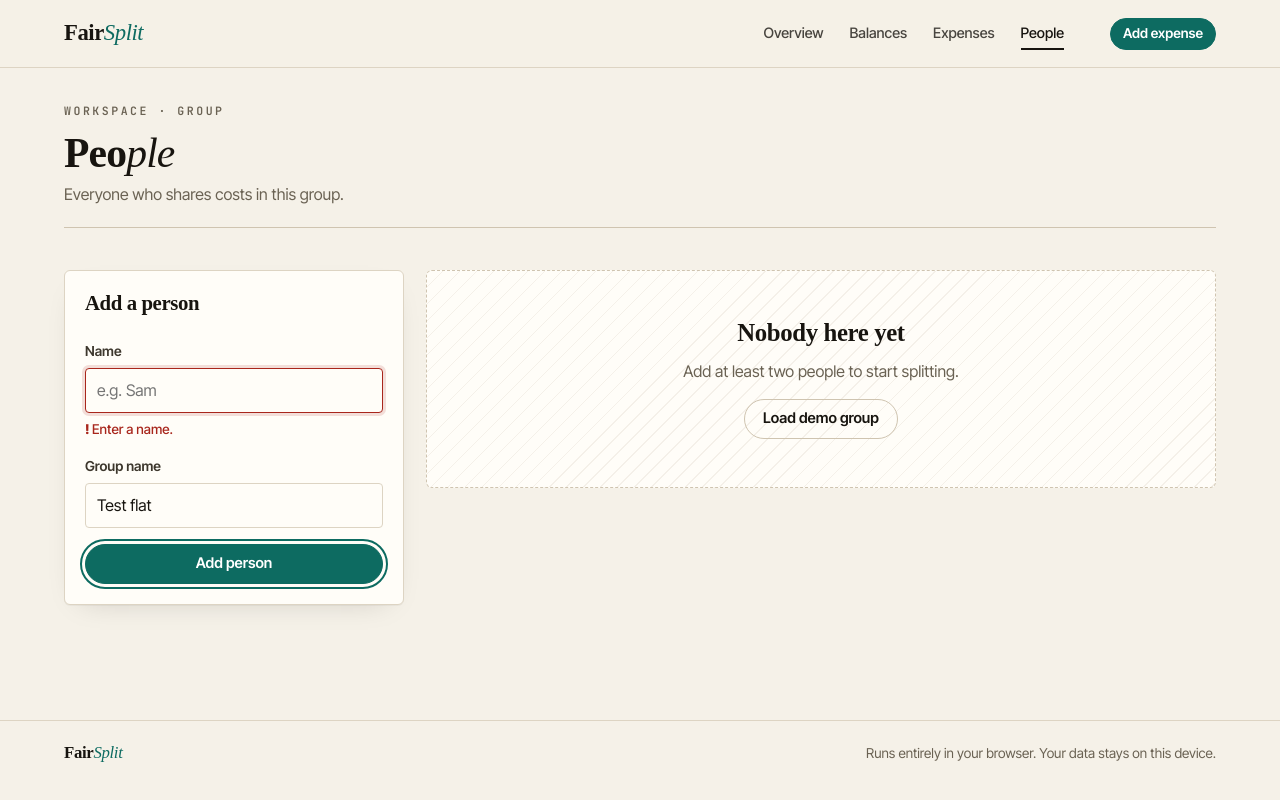
Test: FairSplit workflow › adds people, records an expense with validation, and settles up
Earlier steps of the test are not shown.
Later steps or results of the test are not shown.
Expected: the text "Enter a name." is shown, [92,421,173,437]
In the field labelled "Name": {"x": 234, "y": 391} [85,368,383,413], type "Ana"
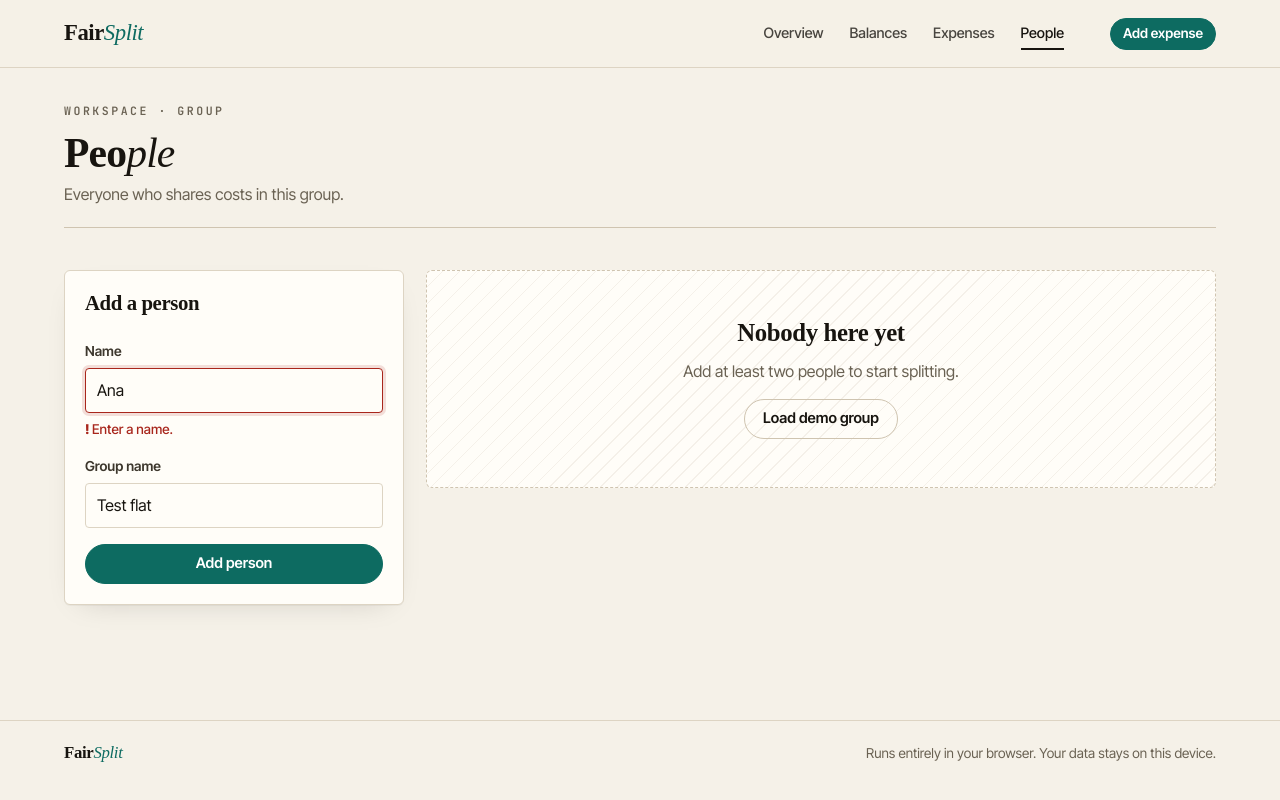
Click the button "Add person": {"x": 234, "y": 564} [85,544,383,584]
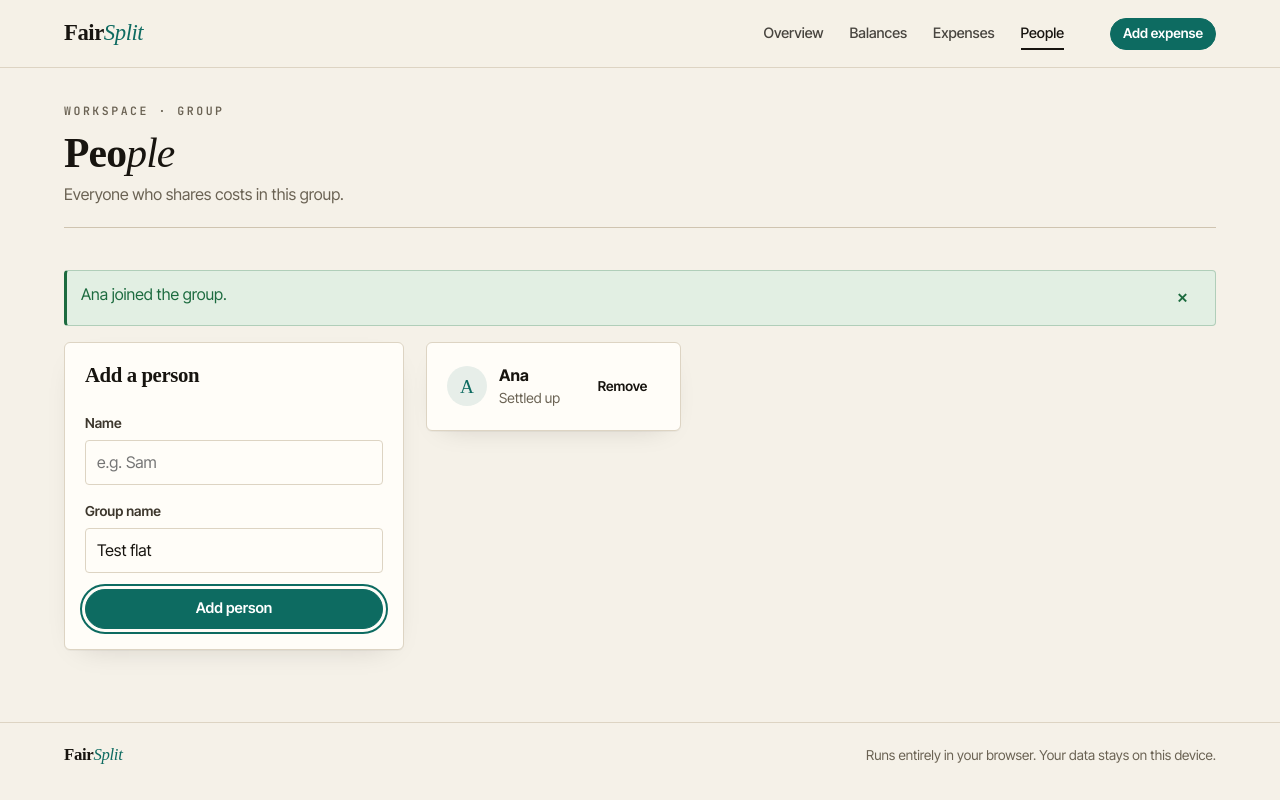
In the field labelled "Name": {"x": 234, "y": 463} [85,440,383,485], type "Ben"
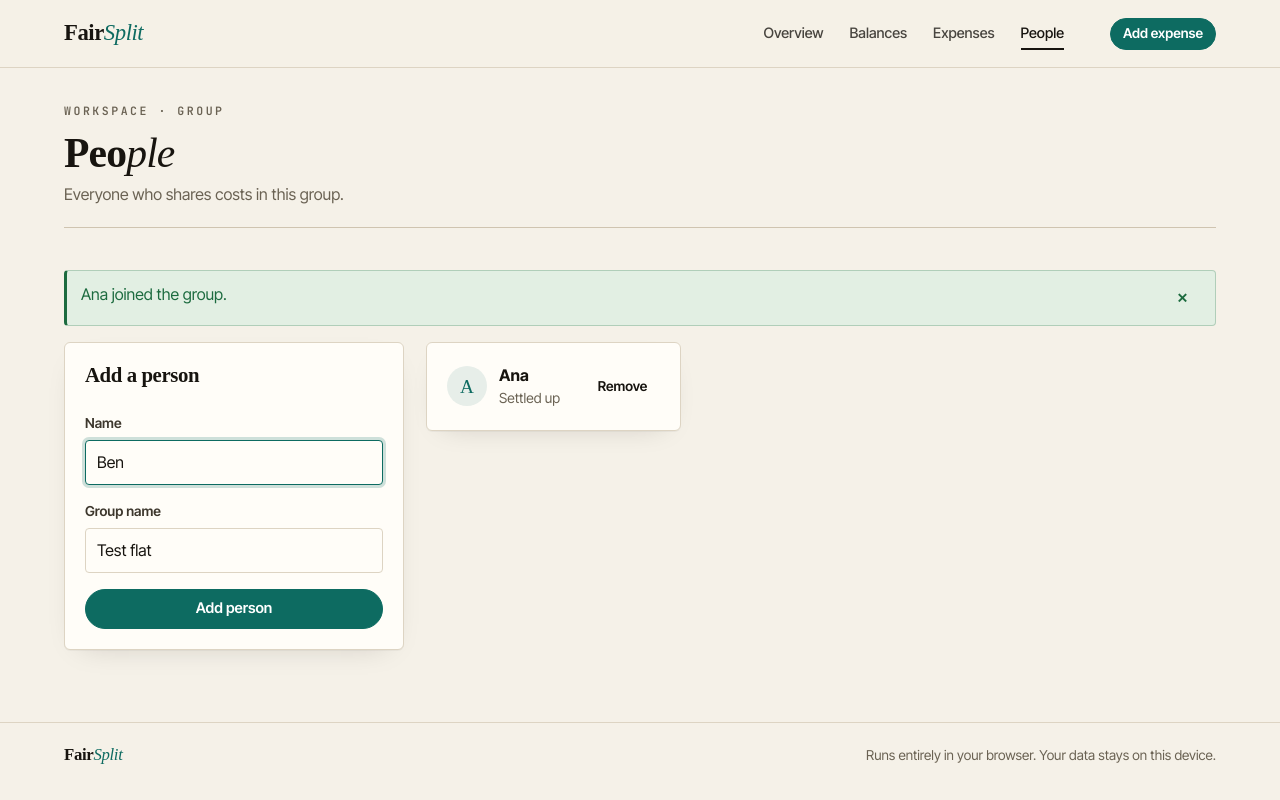
Click the button "Add person": {"x": 234, "y": 609} [85,589,383,629]
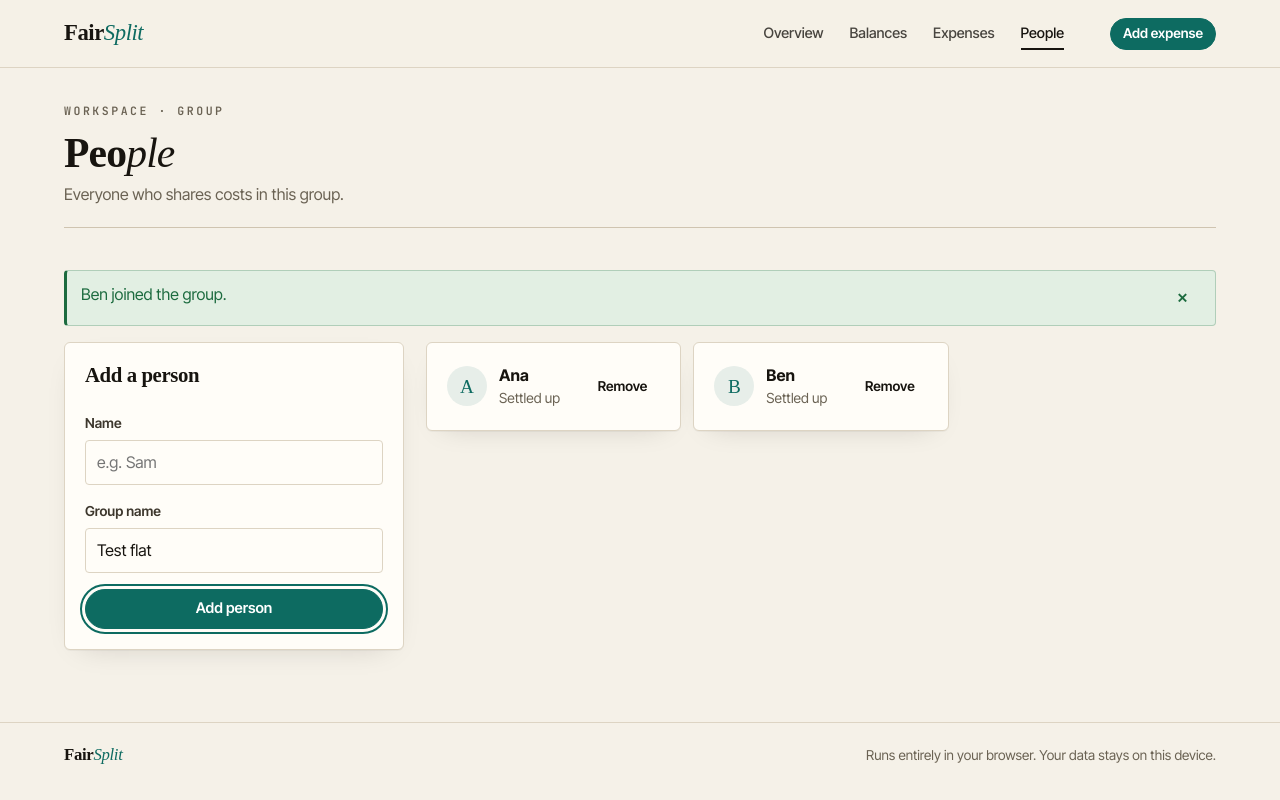
In the field labelled "Name": {"x": 234, "y": 463} [85,440,383,485], type "ana"
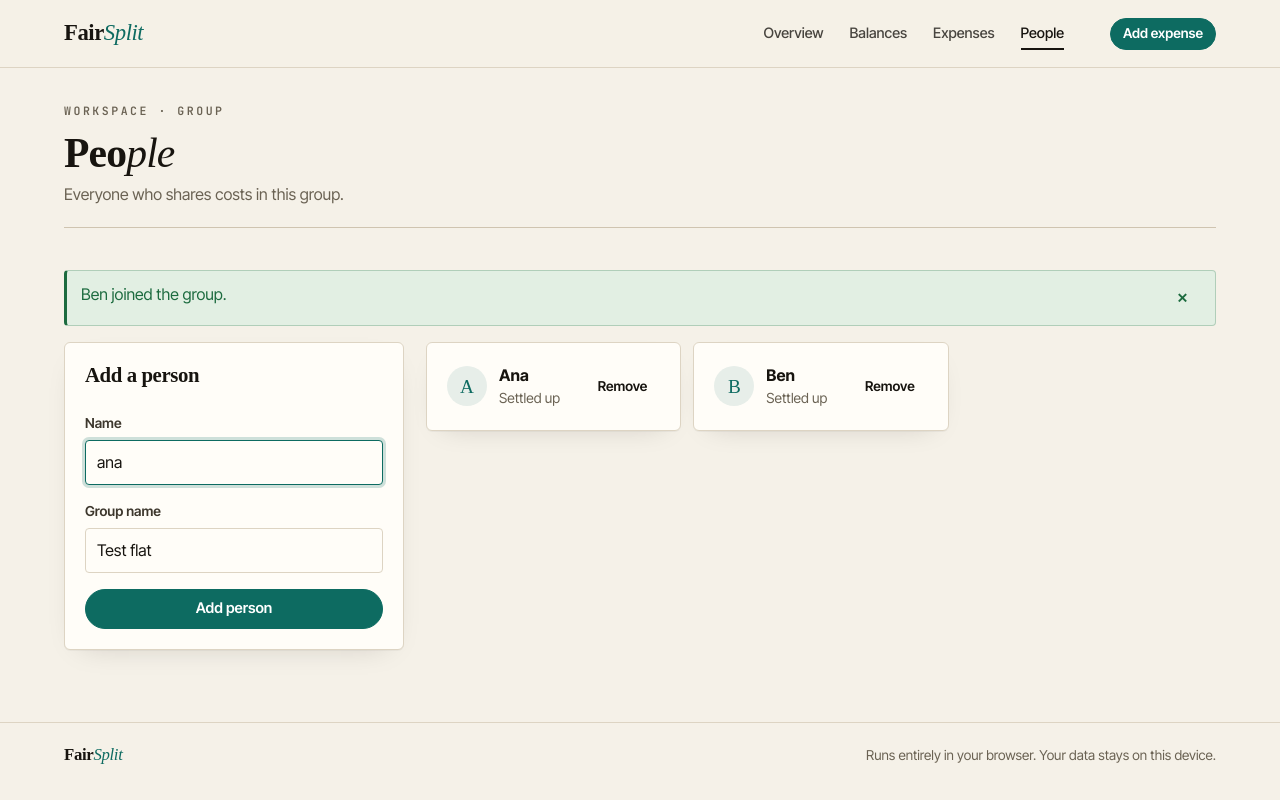
Click the button "Add person": {"x": 234, "y": 609} [85,589,383,629]
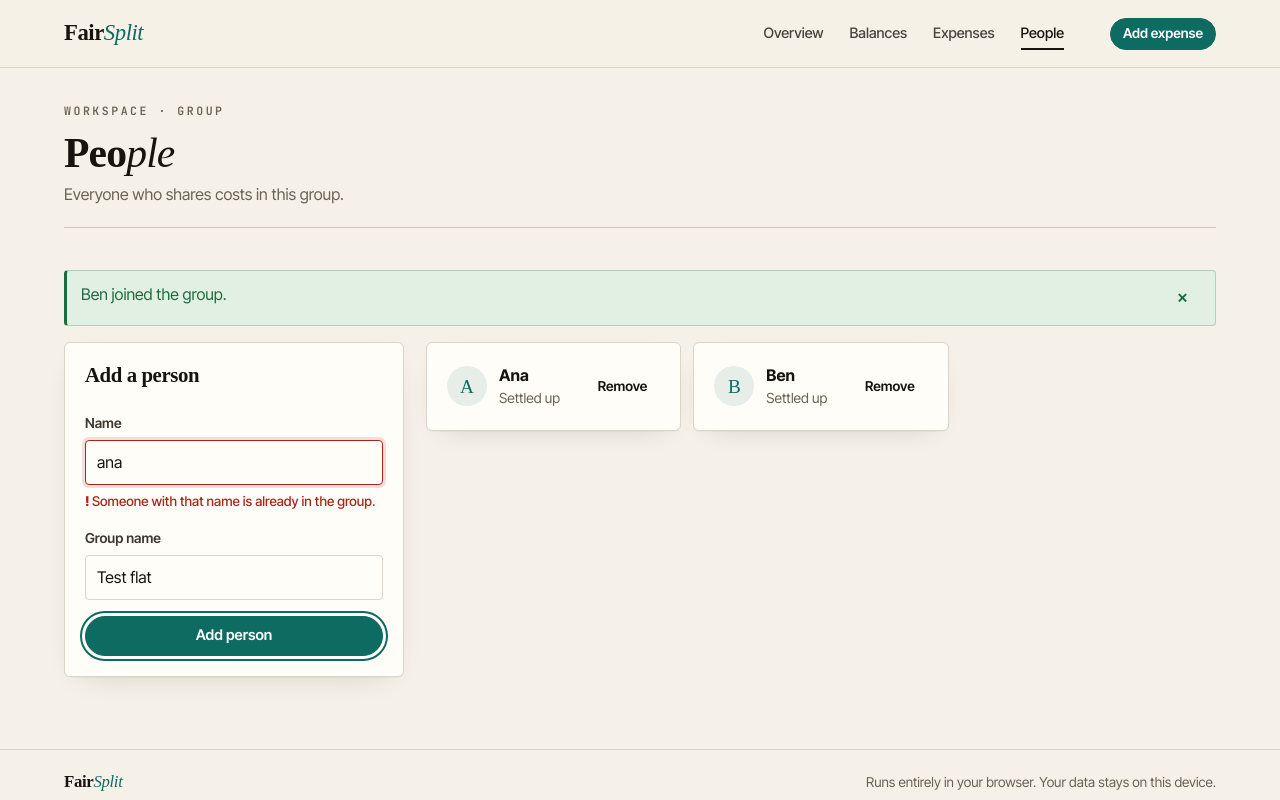
Expected: the text "Someone with that name is already in the group." is shown, [85,491,383,512]
